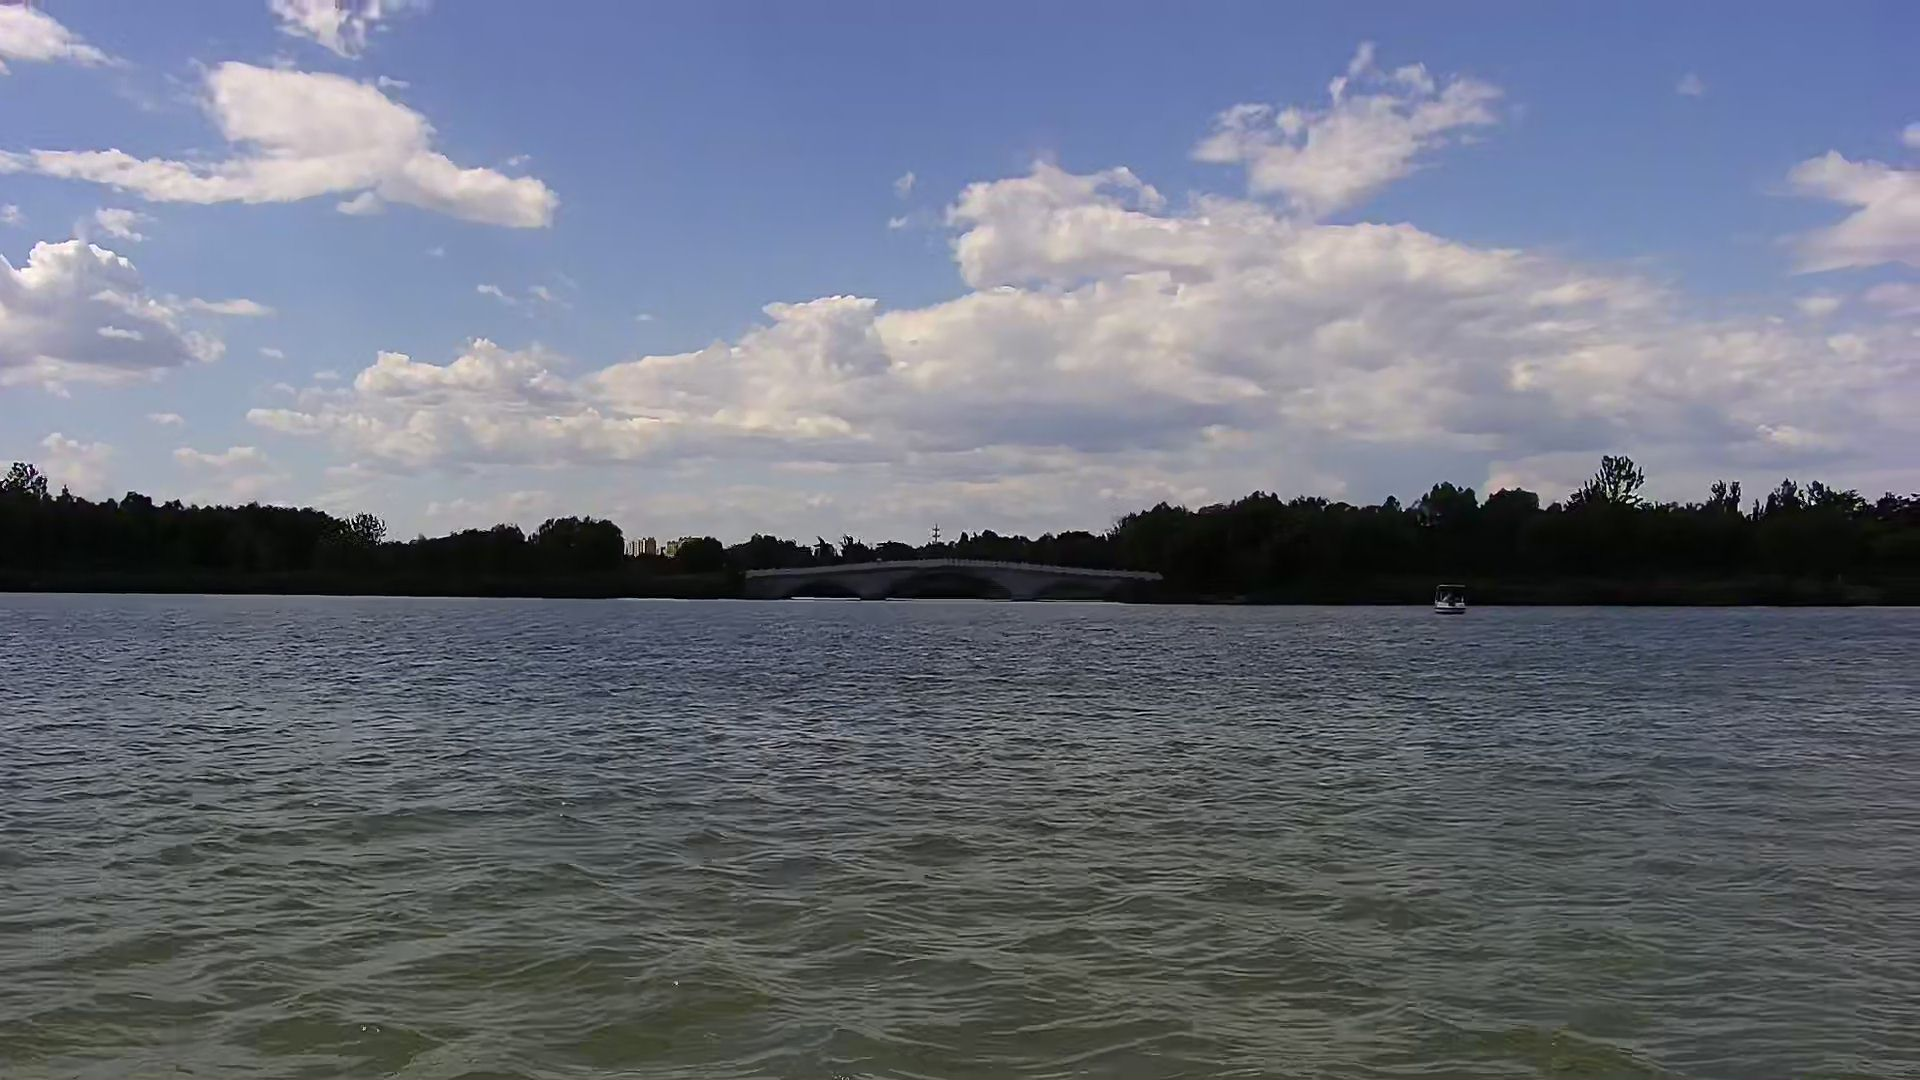boat: (1431, 568, 1480, 618)
bridge: (740, 554, 1170, 607)
